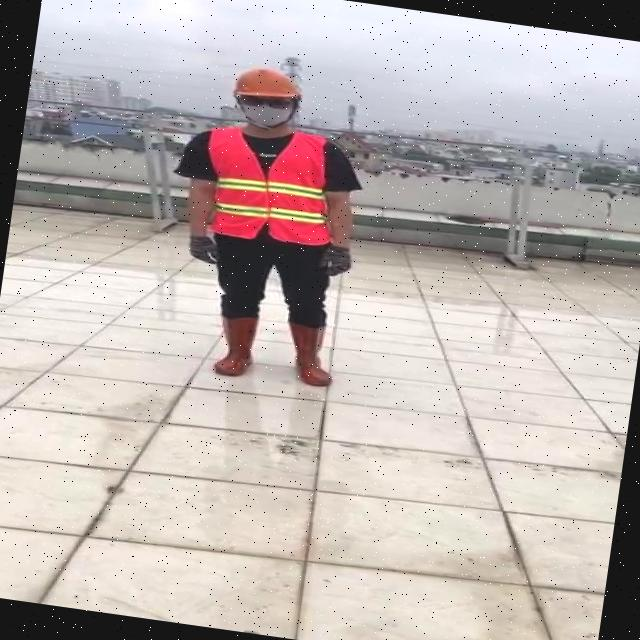boots: (276, 321, 342, 386), (210, 312, 263, 378)
helmet: (229, 62, 306, 105)
vest: (196, 120, 344, 248)
